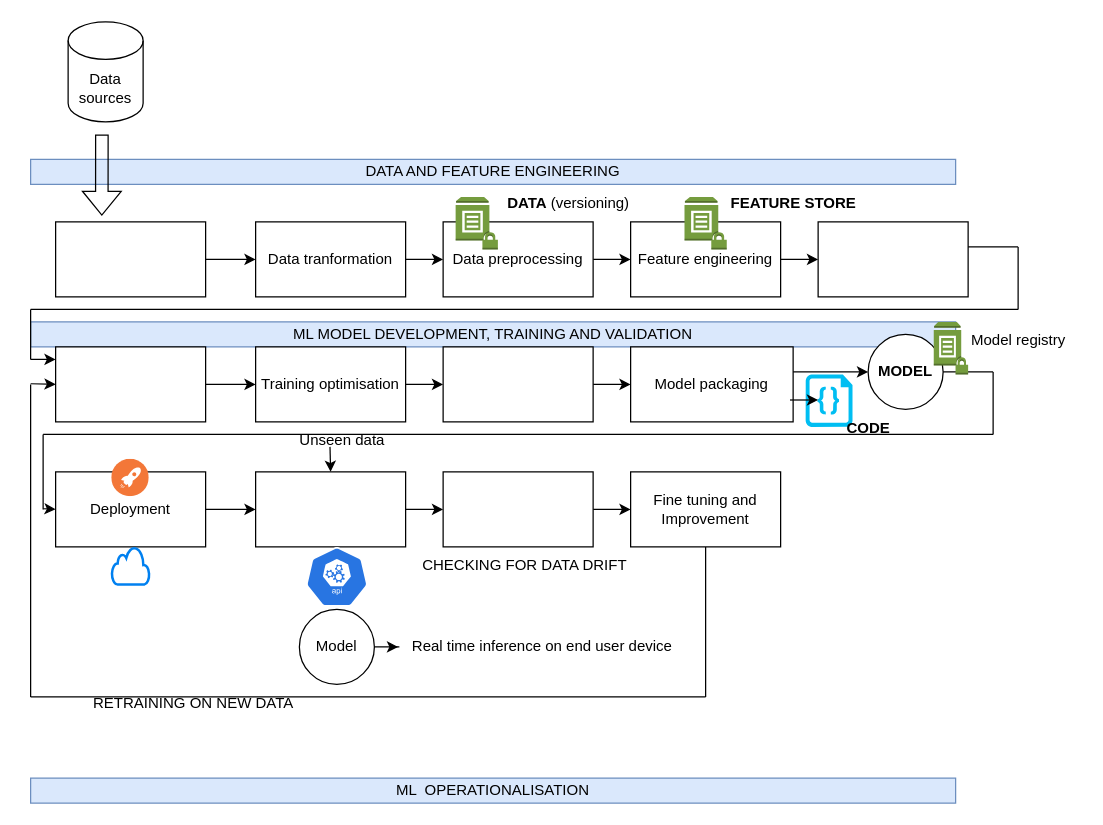
Image size: 1103x825. Some labels were removed from this diagram. The shapes that lost their labels are listed below. From the top down, each one's centre as x and y in pixels, then its label:
[130,259]: Data Ingestion
[892,259]: Data splitting (Train, Test, Val)
[130,384]: Model development and training
[517,384]: Model Evaluation
[330,509]: Model Serving
[517,509]: Monitoring and Logging
